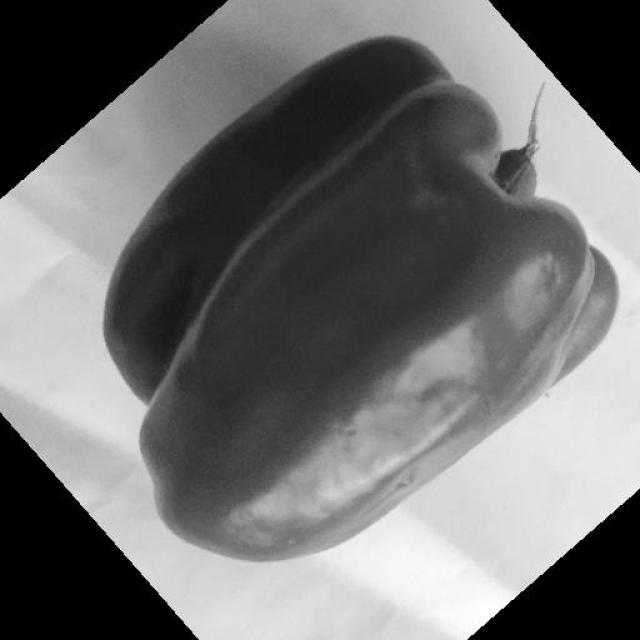Stale_Capsicum: (120, 22, 464, 390)
